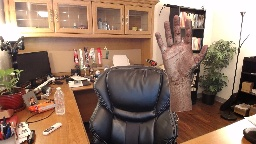Mano_aperta: (154, 13, 208, 81)
